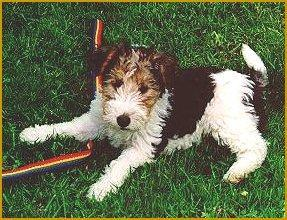wire-haired_fox_terrier: (17, 38, 272, 205)
